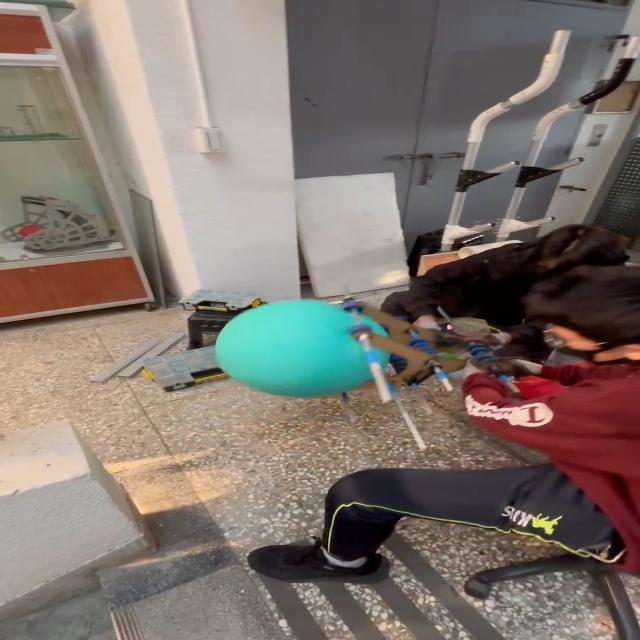ALGAE: (212, 298, 392, 399)
